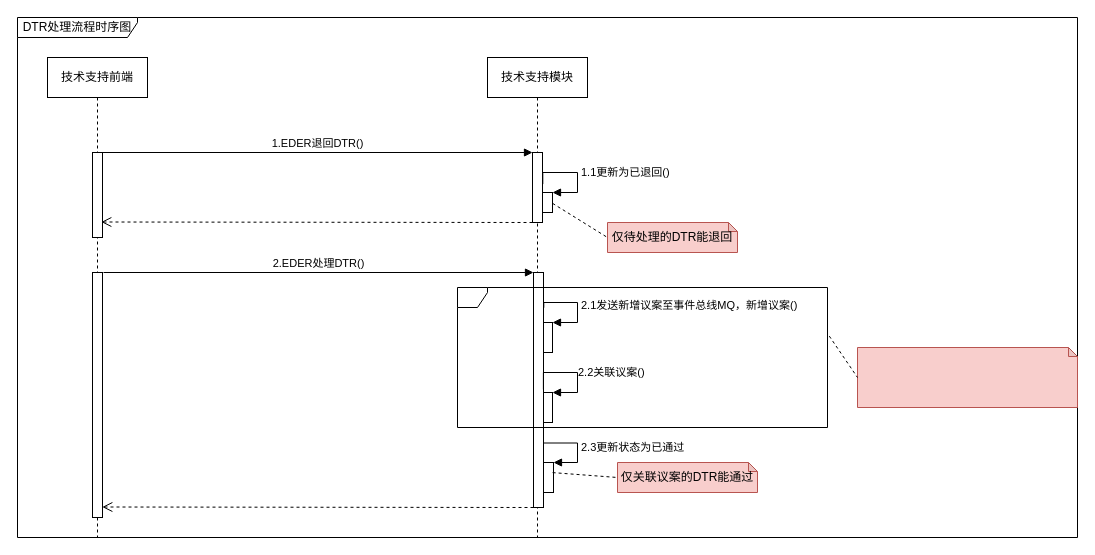
The diagram is 1095 pixels wide and 555 high, and some of its shapes have lost their labels. The shapes that lost their labels are listed below. From the top down, each one's centre as x and y in pixels, then its label:
point (642, 357): alt
point (967, 377): 1.DTR已关联议案：可重新选择关联 2.未关联议案：可直接关联已存在的议案 3.已有议案中也没有符合的议案，可新增议案后再关联
